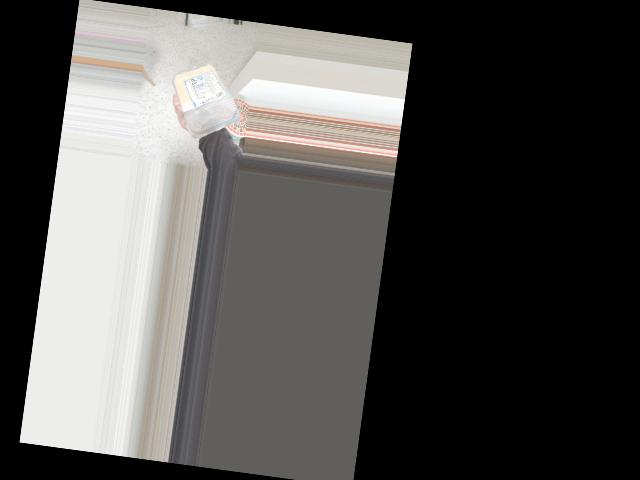cheese: (173, 55, 246, 139)
